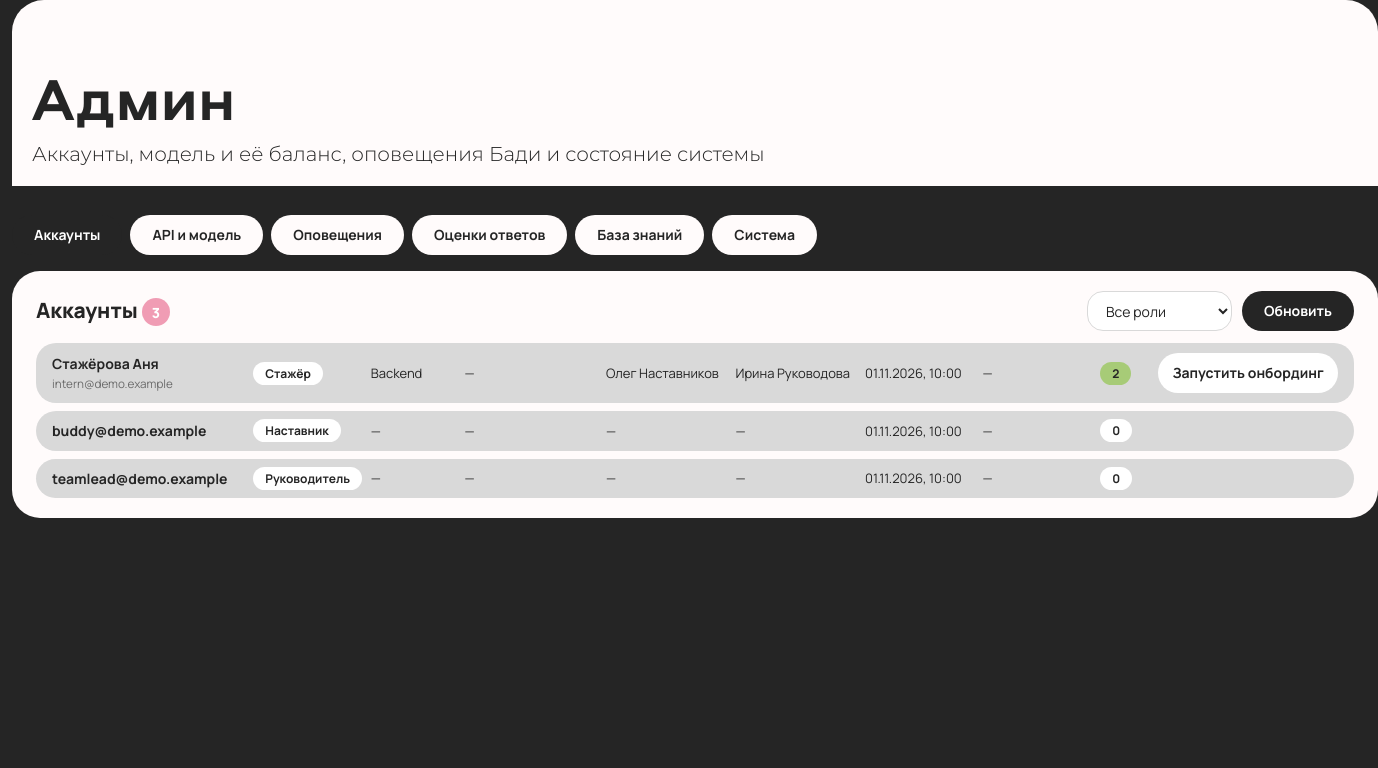
админ-панель › «Запустить онбординг» есть только у стажёров и сбрасывает первый вход
Expected: the text "Стажёрова Аня" is shown, [52,354,159,373]
Click the button "Запустить онбординг" at (1248, 373), box [1158,353,1338,393]
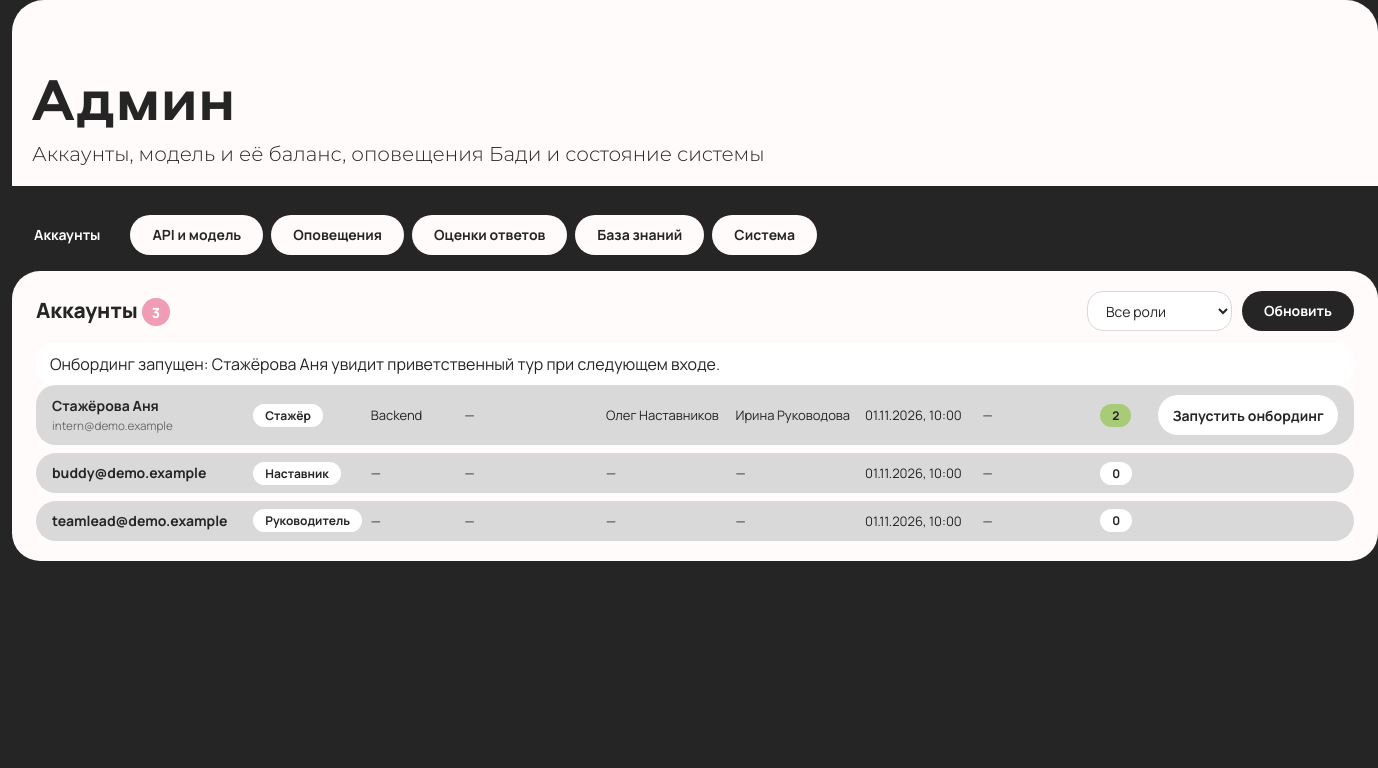
Result: the message shows "Стажёрова Аня увидит приветственный тур при следующем входе" at [50,353,720,375]
